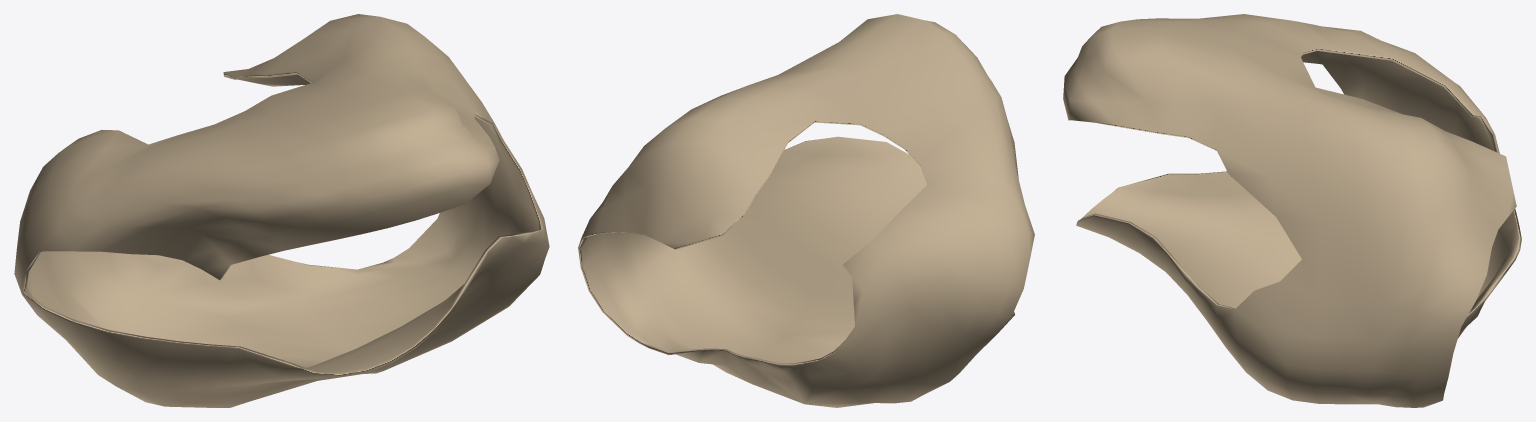
3 views of the same model, side by side, from view 1: azimuth 30°, elevation 25°; view 2: azimuth 150°, elevation 25°; view 3: azimuth 270°, elevation 25° (orthographic). The views are drawn at different scales.
Visible parts, largest first — view 1: 左侧肘关节囊; view 2: 左侧肘关节囊; view 3: 左侧肘关节囊.
Boxes of the visible parts, bbox=[...] form: 左侧肘关节囊: bbox=[14, 14, 549, 407]; 左侧肘关节囊: bbox=[578, 14, 1034, 407]; 左侧肘关节囊: bbox=[1063, 14, 1521, 407].
Size of the model in its own units: 0.0901 by 0.0623 by 0.0784.
